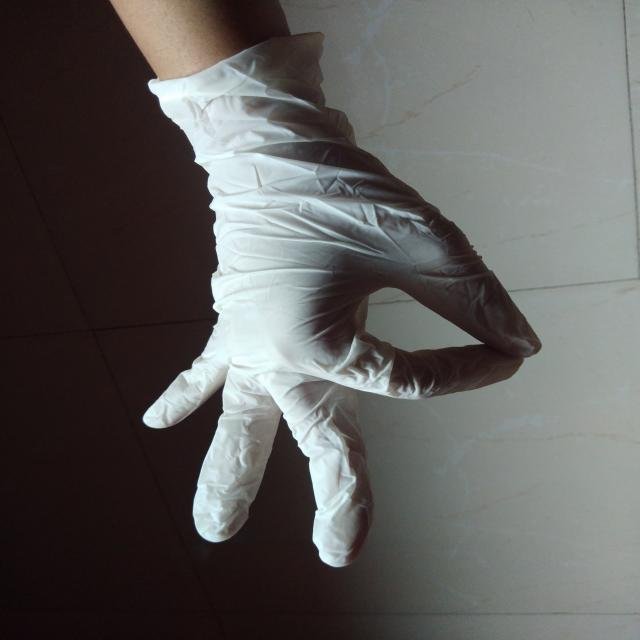gloved_hand: (132, 23, 544, 573)
